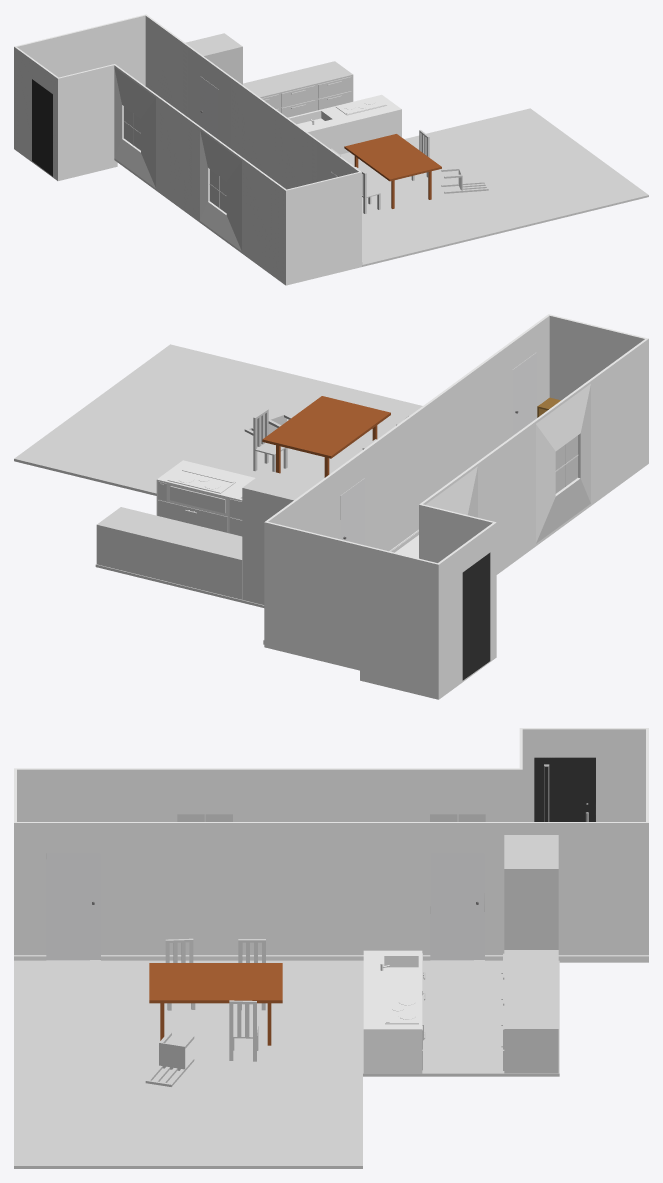
Rendered from main.glb.
The picture shows the model from 3 angles, top to bottom: view 1: azimuth 30°, elevation 25°; view 2: azimuth 150°, elevation 25°; view 3: azimuth 270°, elevation 25°; orthographic projection. The views are drawn at different scales.
Parts seen in each view (by area): view 1: 廊下, 間取り, キッチン, 机, 立方体, 玄関のドア, 立方体.002, 書斎のドア, 椅子, ガラス2, ガラス1, 立方体.003 (+2 smaller); view 2: 廊下, 間取り, 立方体, 机, 立方体.002, 玄関のドア, キッチン, リビングのドア, 書斎のドア, 引き出し.002, 椅子.003, ガラス1 (+1 smaller); view 3: 廊下, 間取り, キッチン, 立方体, 立方体.002, リビングのドア, 書斎のドア, 机, 玄関のドア, 椅子, 椅子.003.
Boxes of the visible parts, x1,y1,x2,y2 form: 廊下: [14, 14, 362, 285]; 間取り: [340, 108, 648, 266]; キッチン: [288, 94, 401, 154]; 机: [344, 134, 441, 208]; 立方体: [243, 61, 353, 112]; 玄関のドア: [32, 79, 52, 176]; 立方体.002: [185, 33, 242, 84]; 書斎のドア: [200, 76, 218, 139]; 椅子: [441, 167, 488, 193]; ガラス2: [124, 106, 140, 150]; ガラス1: [210, 169, 226, 212]; 立方体.003: [281, 85, 315, 107]; 廊下: [263, 314, 648, 699]; 間取り: [14, 344, 422, 607]; 立方体: [96, 507, 242, 599]; 机: [262, 396, 390, 477]; 立方体.002: [242, 470, 317, 604]; 玄関のドア: [462, 552, 490, 680]; キッチン: [156, 460, 255, 533]; リビングのドア: [512, 352, 536, 435]; 書斎のドア: [340, 478, 364, 545]; 引き出し.002: [158, 500, 227, 532]; 椅子.003: [253, 408, 287, 472]; ガラス1: [555, 435, 577, 493]; 廊下: [14, 728, 648, 962]; 間取り: [14, 960, 559, 1168]; キッチン: [363, 950, 422, 1073]; 立方体: [504, 950, 558, 1073]; 立方体.002: [504, 835, 558, 949]; リビングのドア: [46, 853, 100, 960]; 書斎のドア: [430, 853, 484, 960]; 机: [149, 963, 282, 1045]; 玄関のドア: [534, 757, 595, 821]; 椅子: [145, 1032, 194, 1086]; 椅子.003: [229, 1000, 258, 1061].
Size of the model in its own units: 11.56 by 2.7 by 10.3.
Materials: 12 (3 with a texture image).
